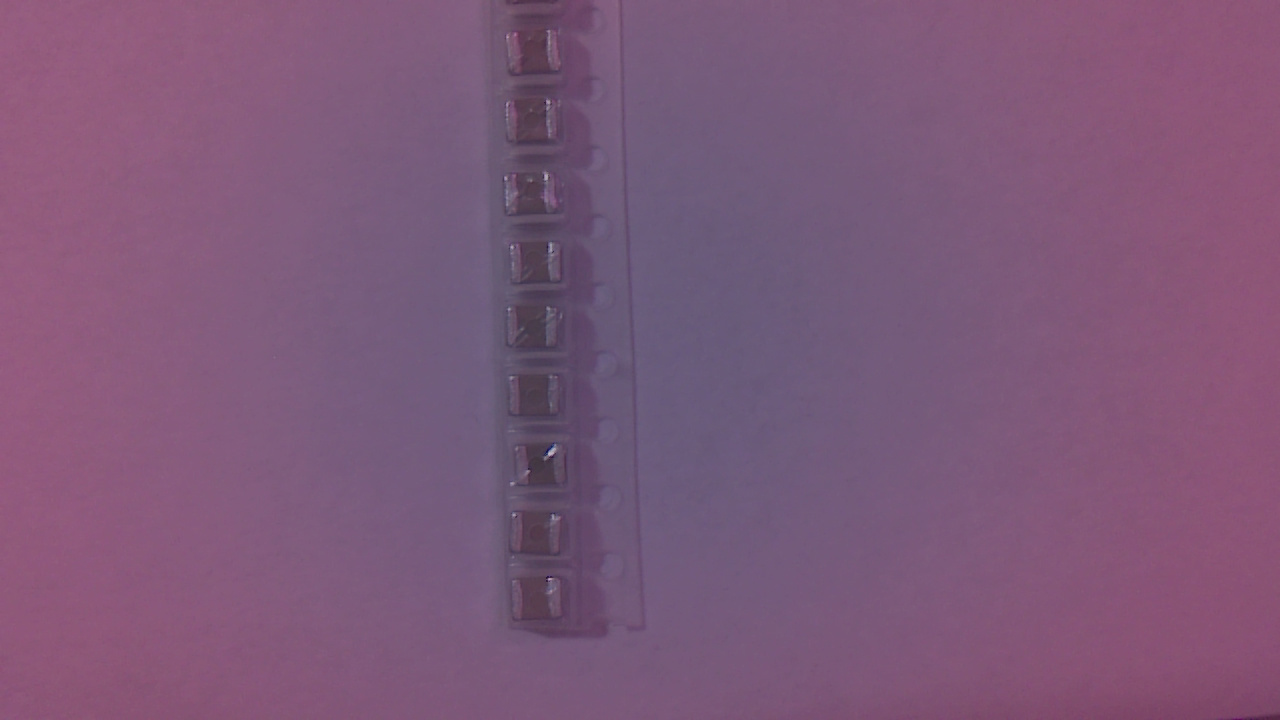Condensator: (510, 513, 575, 563), (505, 100, 568, 151), (506, 32, 570, 81), (510, 375, 570, 424), (507, 172, 569, 219), (516, 444, 576, 492), (511, 244, 572, 289), (508, 309, 569, 353), (515, 580, 569, 627)
